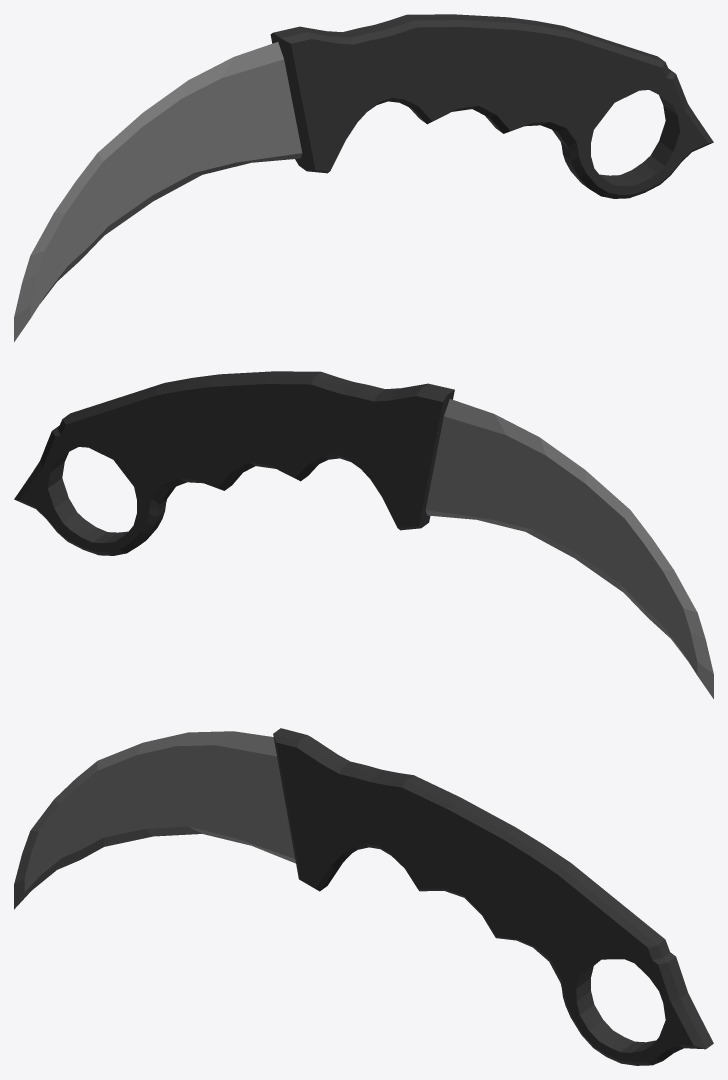
The model's file is Krambit.fbx.
The picture shows the model from 3 angles, top to bottom: view 1: azimuth 30°, elevation 25°; view 2: azimuth 150°, elevation 25°; view 3: azimuth 330°, elevation 25°; orthographic projection.
Parts seen in each view (by area): view 1: Cube.001, Cube; view 2: Cube.001, Cube; view 3: Cube.001, Cube.
Boxes of the visible parts, <box> form: Cube.001: <box>270,14,713,198</box>; Cube: <box>14,42,302,341</box>; Cube.001: <box>14,371,454,555</box>; Cube: <box>425,399,713,698</box>; Cube.001: <box>273,728,713,1065</box>; Cube: <box>14,731,295,909</box>.
Bounding box in the file's own units: 851 × 286 × 30.67.
